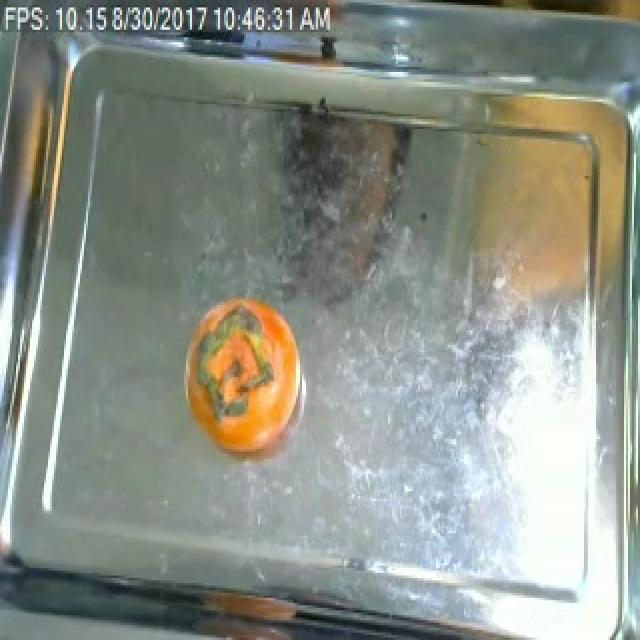Fruit: (462, 119, 600, 335), (182, 290, 294, 462)
